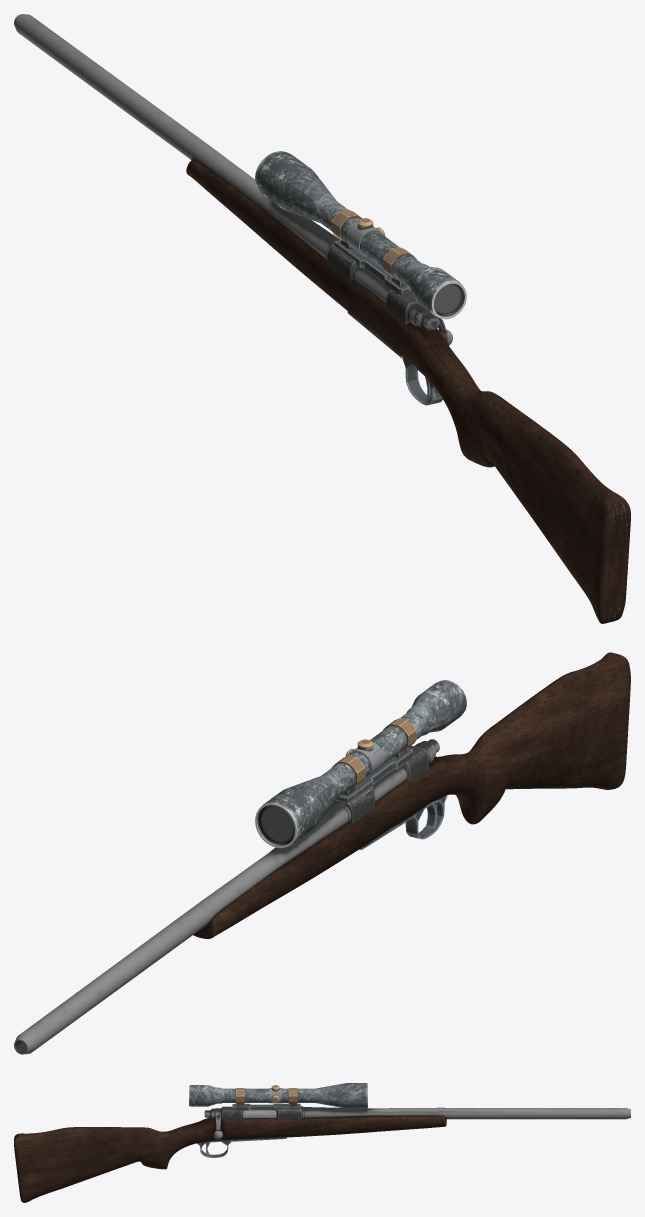
The picture shows the model from 3 angles, top to bottom: view 1: azimuth 30°, elevation 25°; view 2: azimuth 150°, elevation 25°; view 3: azimuth 270°, elevation 25°; orthographic projection. The views are drawn at different scales.
Visible parts, largest first — view 1: Body; view 2: Body; view 3: Body, Bolt.
Boxes of the visible parts, x1=… form: Body: x1=14, y1=14, x2=630, y2=623; Body: x1=14, y1=652, x2=630, y2=1054; Body: x1=14, y1=1083, x2=630, y2=1202; Bolt: x1=204, y1=1103, x2=285, y2=1121.
Size of the model in its own units: 0.0556 by 0.2312 by 1.1.
Materials: 1 (1 with a texture image).
